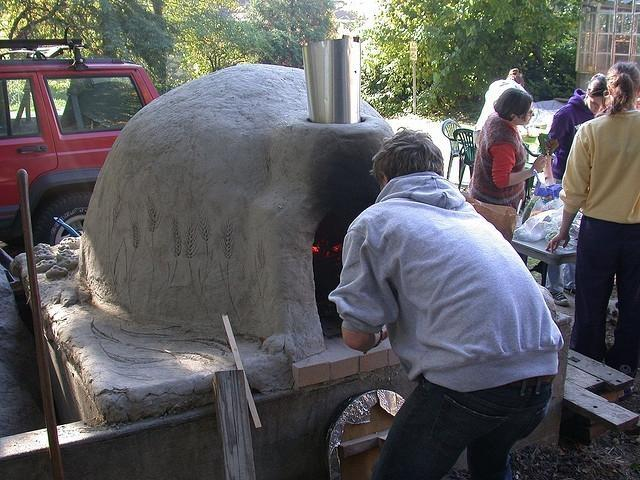car: (0, 41, 161, 239)
